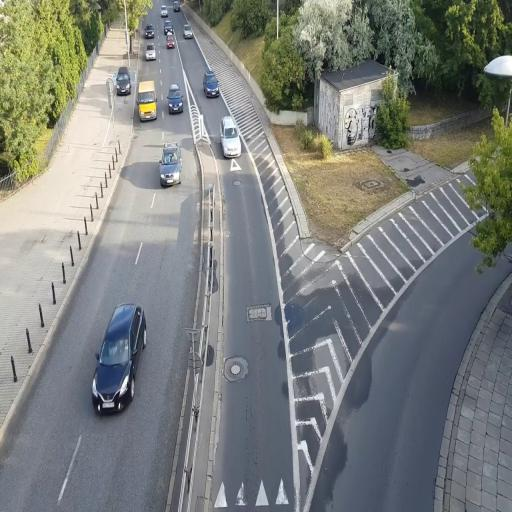vehicle: (92, 302, 147, 415), (133, 79, 157, 123), (159, 143, 181, 187), (221, 116, 241, 158), (114, 67, 132, 96), (168, 82, 184, 114), (203, 72, 219, 97), (164, 28, 174, 50), (183, 24, 193, 38)
